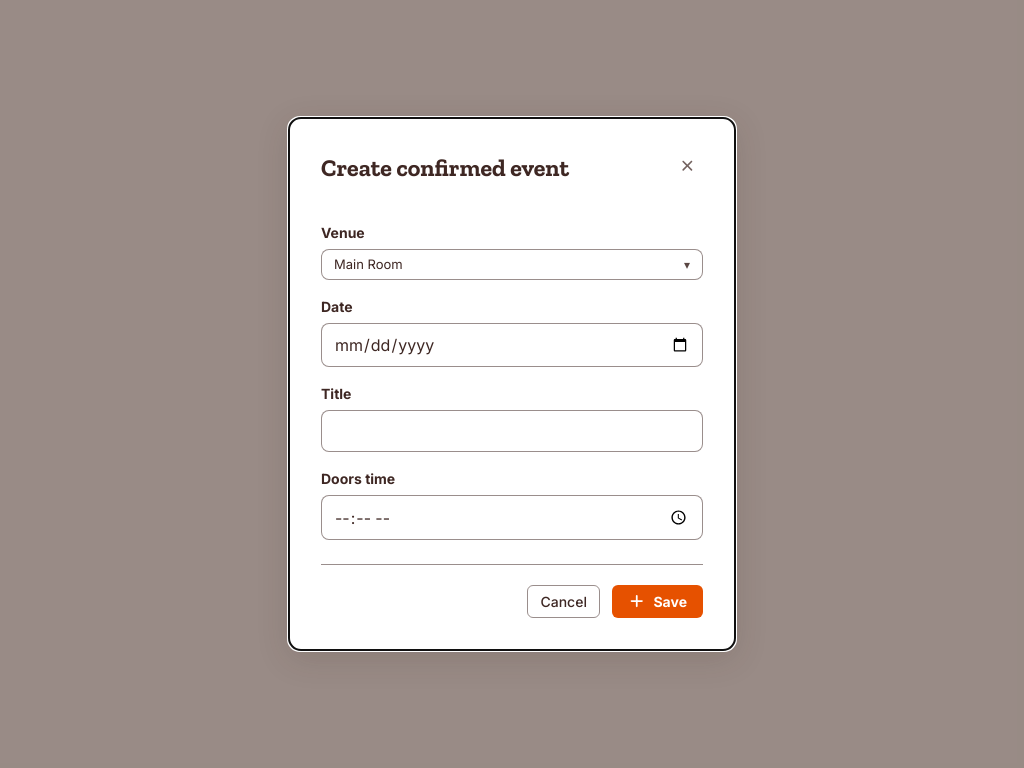
Test case: CreateBookingEventModal › shows a booking conflict message on a 409 error without closing
This screenshot has width=1024, height=768.
Type "New Show" into the field labelled "Title".
click(512, 431); type("New Show")  # box [321,410,703,452]
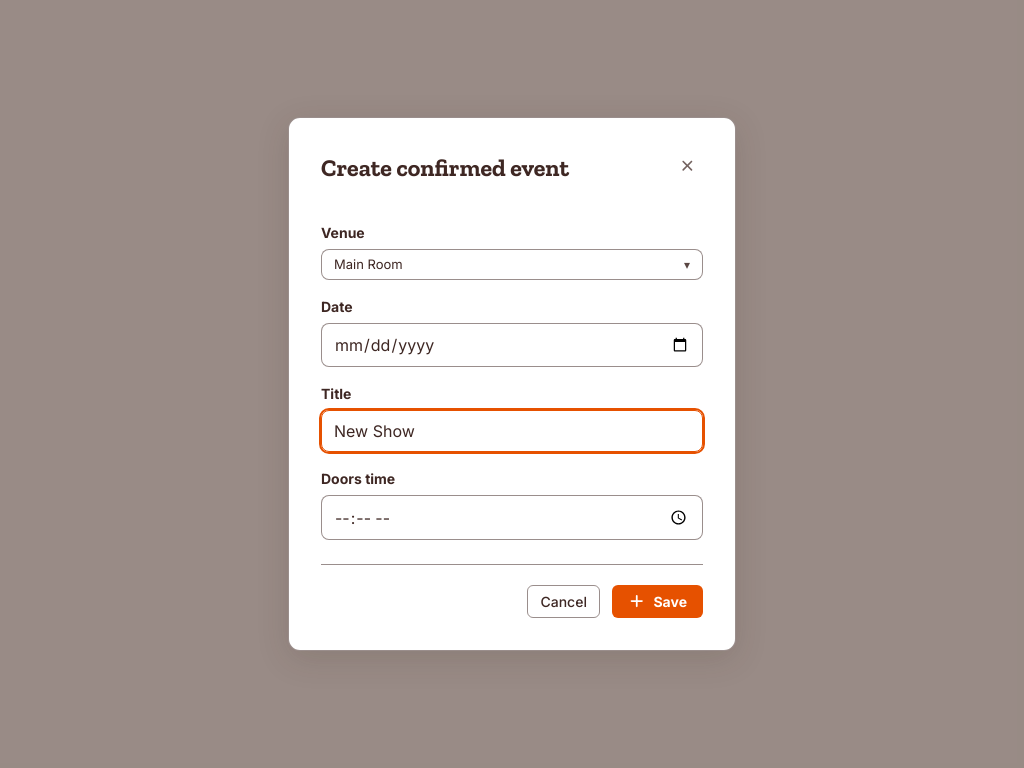
Click the button "Save".
click(658, 601)  # box [612,585,703,618]
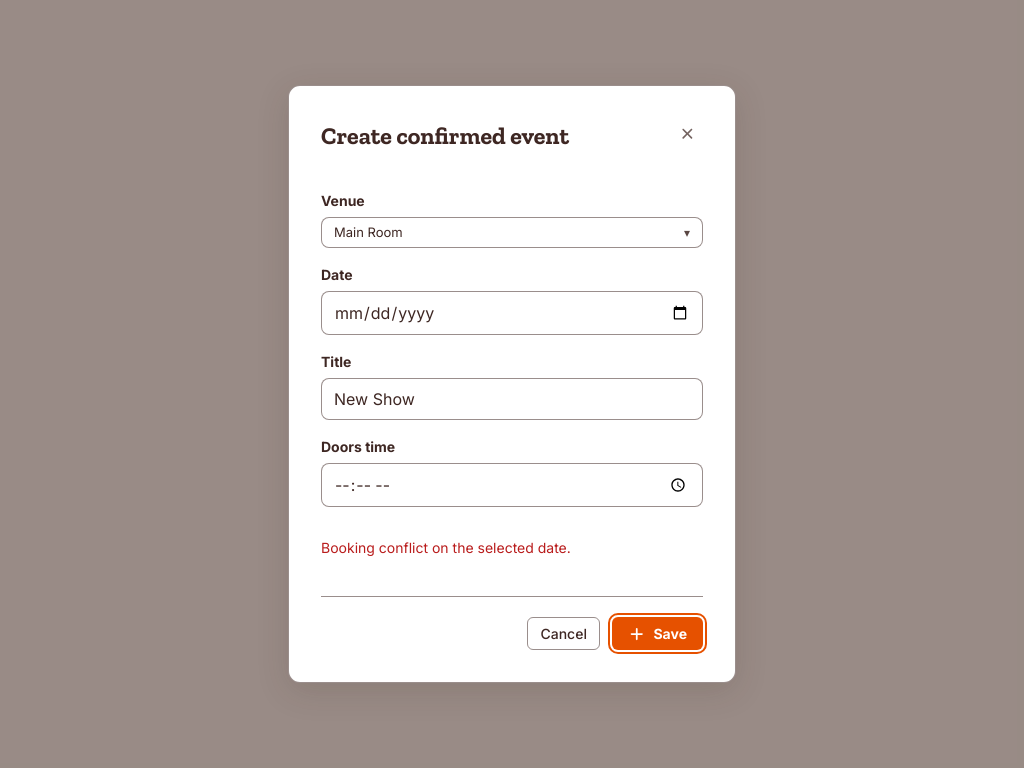
Now the message reads "Booking conflict on the selected date.", box [321,539,571,556]
